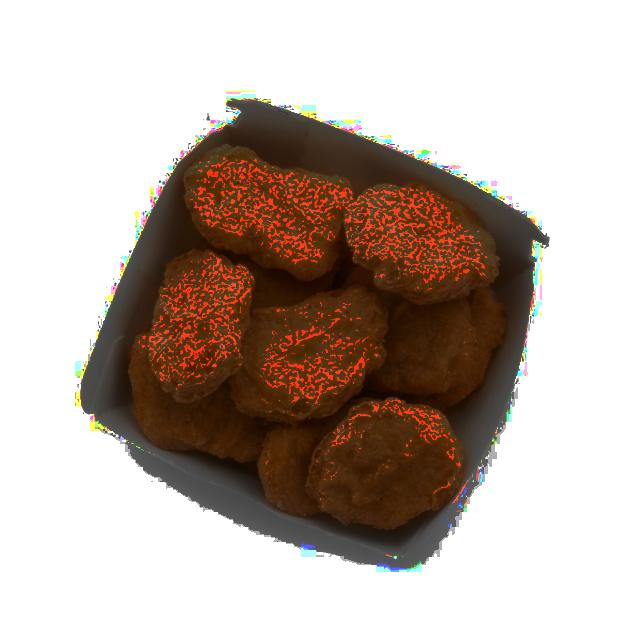chicken_nuggets: (227, 282, 407, 428), (182, 134, 350, 284), (354, 148, 502, 305), (308, 396, 464, 538), (146, 242, 248, 405)
